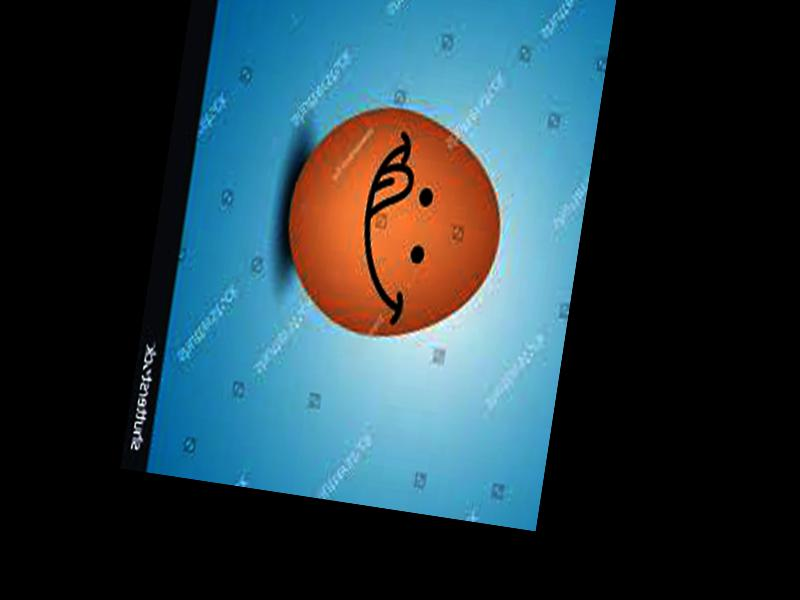Eggs: (272, 94, 516, 353)
